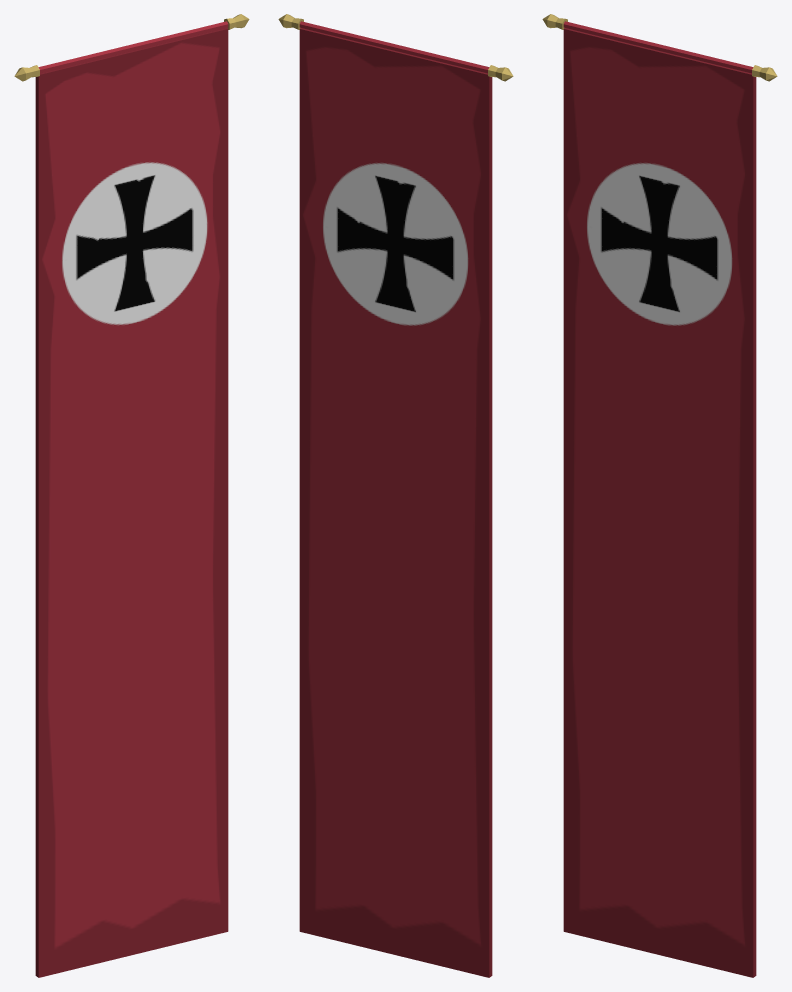
The model's file is SM_Env_Flag_Long_Germany_B.fbx.
3 views of the same model, side by side, from view 1: azimuth 30°, elevation 25°; view 2: azimuth 150°, elevation 25°; view 3: azimuth 330°, elevation 25° (orthographic).
Visible parts, largest first — view 1: SM_Env_Flag_Long_Germany_B; view 2: SM_Env_Flag_Long_Germany_B; view 3: SM_Env_Flag_Long_Germany_B.
Part boxes in pixels (left/top/right/bottom): SM_Env_Flag_Long_Germany_B: left=14, top=14, right=249, bottom=977; SM_Env_Flag_Long_Germany_B: left=278, top=14, right=513, bottom=977; SM_Env_Flag_Long_Germany_B: left=542, top=14, right=777, bottom=977.
Bounding box in the file's own units: 0.0125 × 0.0463 × 0.000625.
